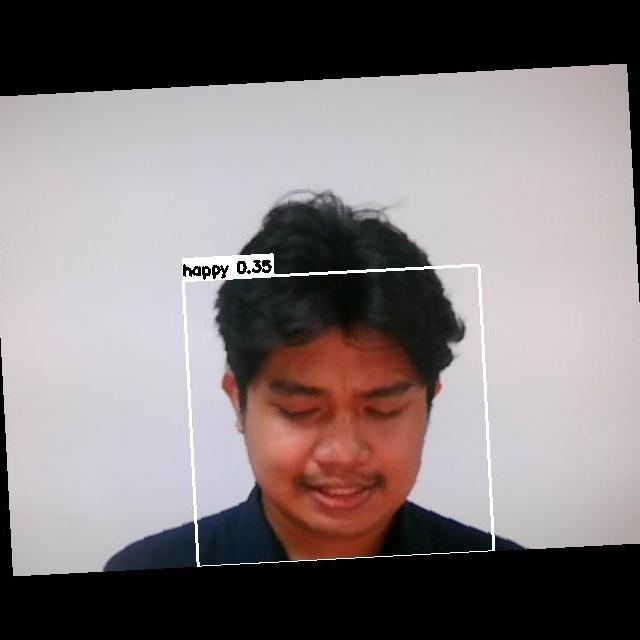Disgust: (244, 358, 436, 521)
